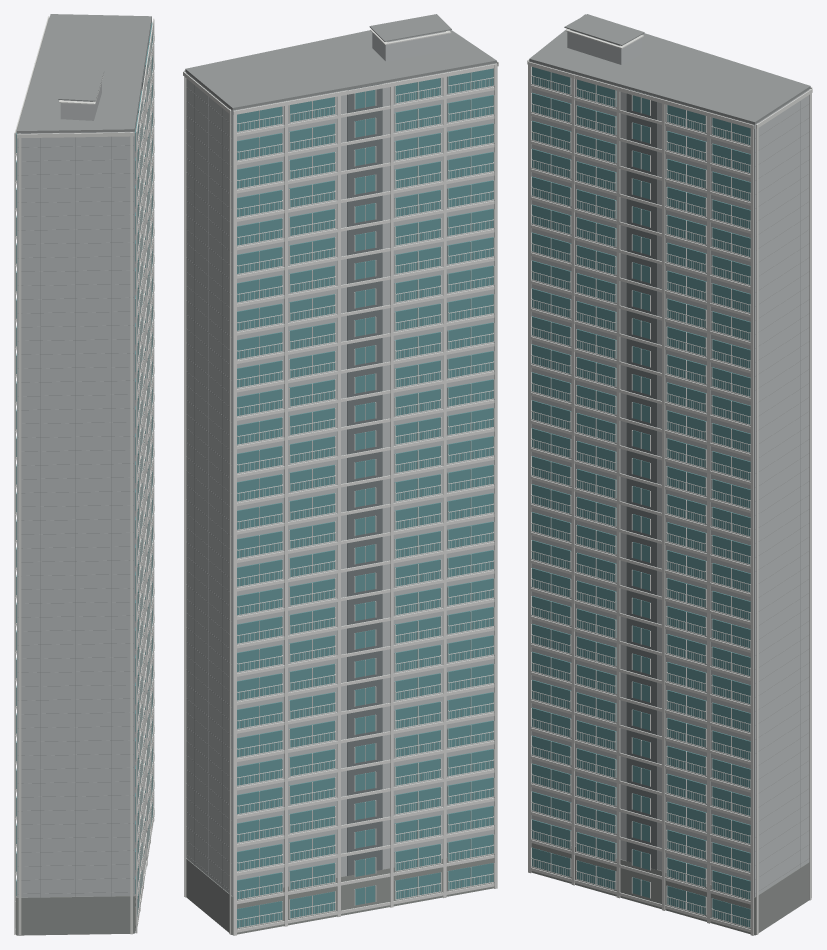
File: bespoke-jamsil-ricenz-214.glb
3 renders of one model, left to right at view 1: azimuth 30°, elevation 25°; view 2: azimuth 150°, elevation 25°; view 3: azimuth 270°, elevation 25°, orthographic. The views are drawn at different scales.
Visible parts, largest first — view 1: Ricenz214_editable_Ricenz214_light_grey_solid_wall, Ricenz214_editable_Ricenz214_modest_grey_flat_roof_caps, Ricenz214_white_exact_chunk_0, Ricenz214_white_exact_chunk_1, Ricenz214_editable_Ricenz214_turquoise_balcony_glazing, Ricenz214_editable_Ricenz214_muted_ground_wall, Ricenz214_white_exact_chunk_3; view 2: Ricenz214_editable_Ricenz214_turquoise_balcony_glazing, Ricenz214_editable_Ricenz214_light_grey_solid_wall, Ricenz214_white_exact_chunk_2, Ricenz214_white_exact_chunk_3, Ricenz214_editable_Ricenz214_modest_grey_flat_roof_caps, Ricenz214_editable_Ricenz214_narrow_charcoal_service_strips, Ricenz214_white_exact_chunk_1, Ricenz214_editable_Ricenz214_muted_ground_wall; view 3: Ricenz214_editable_Ricenz214_turquoise_balcony_glazing, Ricenz214_editable_Ricenz214_light_grey_solid_wall, Ricenz214_white_exact_chunk_1, Ricenz214_white_exact_chunk_0, Ricenz214_editable_Ricenz214_modest_grey_flat_roof_caps, Ricenz214_editable_Ricenz214_narrow_charcoal_service_strips, Ricenz214_editable_Ricenz214_muted_ground_wall, Ricenz214_white_exact_chunk_3.
Boxes of the visible parts, left/top/right/bottom form: Ricenz214_editable_Ricenz214_light_grey_solid_wall: left=17, top=19, right=151, bottom=897; Ricenz214_editable_Ricenz214_modest_grey_flat_roof_caps: left=17, top=14, right=151, bottom=897; Ricenz214_white_exact_chunk_0: left=17, top=78, right=151, bottom=935; Ricenz214_white_exact_chunk_1: left=136, top=18, right=154, bottom=933; Ricenz214_editable_Ricenz214_turquoise_balcony_glazing: left=16, top=22, right=152, bottom=915; Ricenz214_editable_Ricenz214_muted_ground_wall: left=16, top=792, right=152, bottom=935; Ricenz214_white_exact_chunk_3: left=14, top=16, right=103, bottom=934; Ricenz214_editable_Ricenz214_turquoise_balcony_glazing: left=237, top=68, right=493, bottom=927; Ricenz214_editable_Ricenz214_light_grey_solid_wall: left=185, top=31, right=496, bottom=896; Ricenz214_white_exact_chunk_2: left=237, top=89, right=443, bottom=923; Ricenz214_white_exact_chunk_3: left=233, top=29, right=497, bottom=935; Ricenz214_editable_Ricenz214_modest_grey_flat_roof_caps: left=185, top=14, right=496, bottom=889; Ricenz214_editable_Ricenz214_narrow_charcoal_service_strips: left=347, top=83, right=382, bottom=875; Ricenz214_white_exact_chunk_1: left=183, top=70, right=284, bottom=934; Ricenz214_editable_Ricenz214_muted_ground_wall: left=186, top=853, right=493, bottom=934; Ricenz214_editable_Ricenz214_turquoise_balcony_glazing: left=532, top=67, right=750, bottom=927; Ricenz214_editable_Ricenz214_light_grey_solid_wall: left=529, top=29, right=810, bottom=896; Ricenz214_white_exact_chunk_1: left=528, top=61, right=812, bottom=935; Ricenz214_white_exact_chunk_0: left=527, top=59, right=706, bottom=919; Ricenz214_editable_Ricenz214_modest_grey_flat_roof_caps: left=529, top=14, right=810, bottom=890; Ricenz214_editable_Ricenz214_narrow_charcoal_service_strips: left=626, top=88, right=657, bottom=869; Ricenz214_editable_Ricenz214_muted_ground_wall: left=531, top=838, right=809, bottom=935; Ricenz214_white_exact_chunk_3: left=565, top=29, right=812, bottom=897.
Size of the model in its own units: 24.9 by 88.33 by 27.4.
